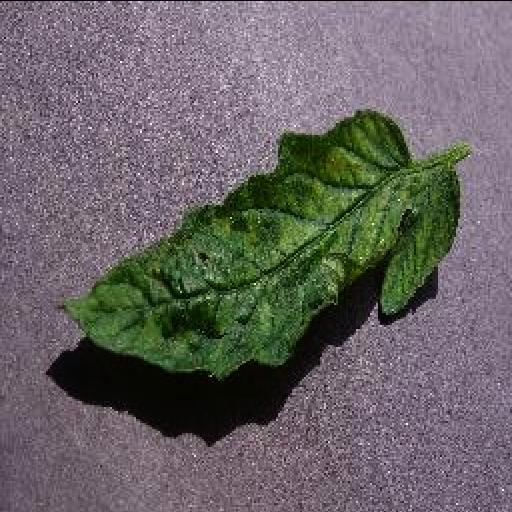Mosaic Virus: (58, 108, 460, 378)
